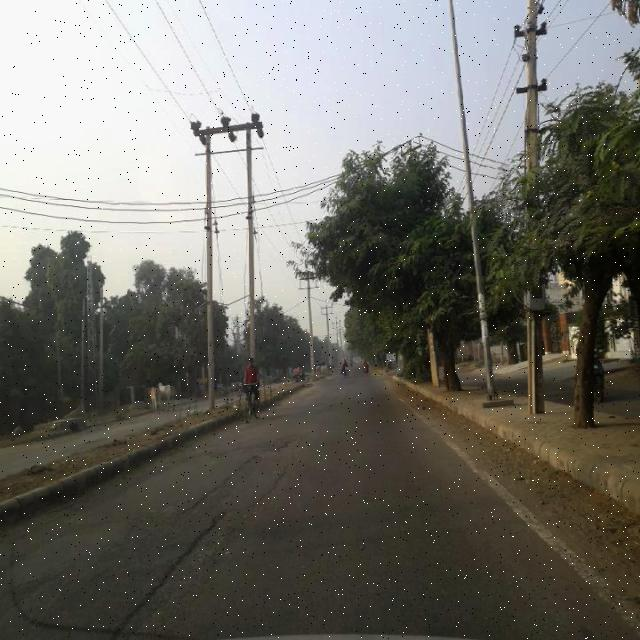D00: (112, 509, 229, 639), (191, 434, 308, 508)
